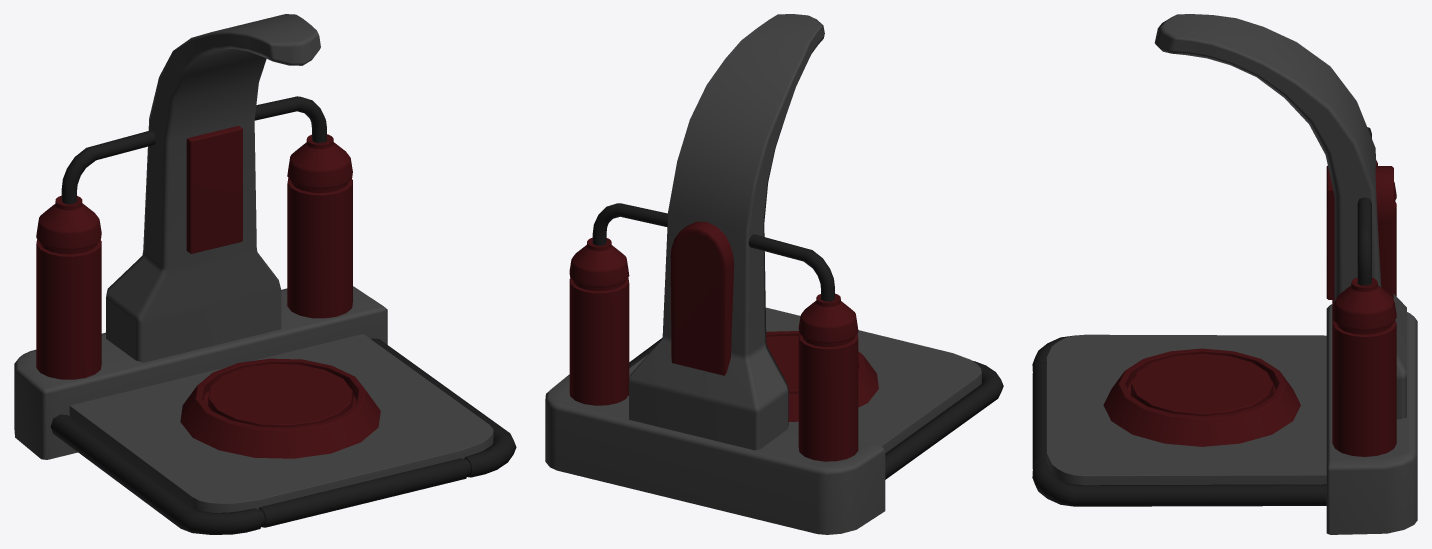
The model's file is colony_Drone_charging_station.glb.
3 renders of one model, left to right at view 1: azimuth 30°, elevation 25°; view 2: azimuth 150°, elevation 25°; view 3: azimuth 270°, elevation 25°, orthographic. The views are drawn at different scales.
Parts seen in each view (by area): view 1: Drone_charging_station; view 2: Drone_charging_station; view 3: Drone_charging_station.
Boxes of the visible parts, box(x1,y1,x2,y2) form: Drone_charging_station: box(14, 14, 516, 534); Drone_charging_station: box(545, 14, 1003, 534); Drone_charging_station: box(1032, 14, 1417, 534).
Size of the model in its own units: 541 by 656 by 536.
Materials: 1 (1 with a texture image).
